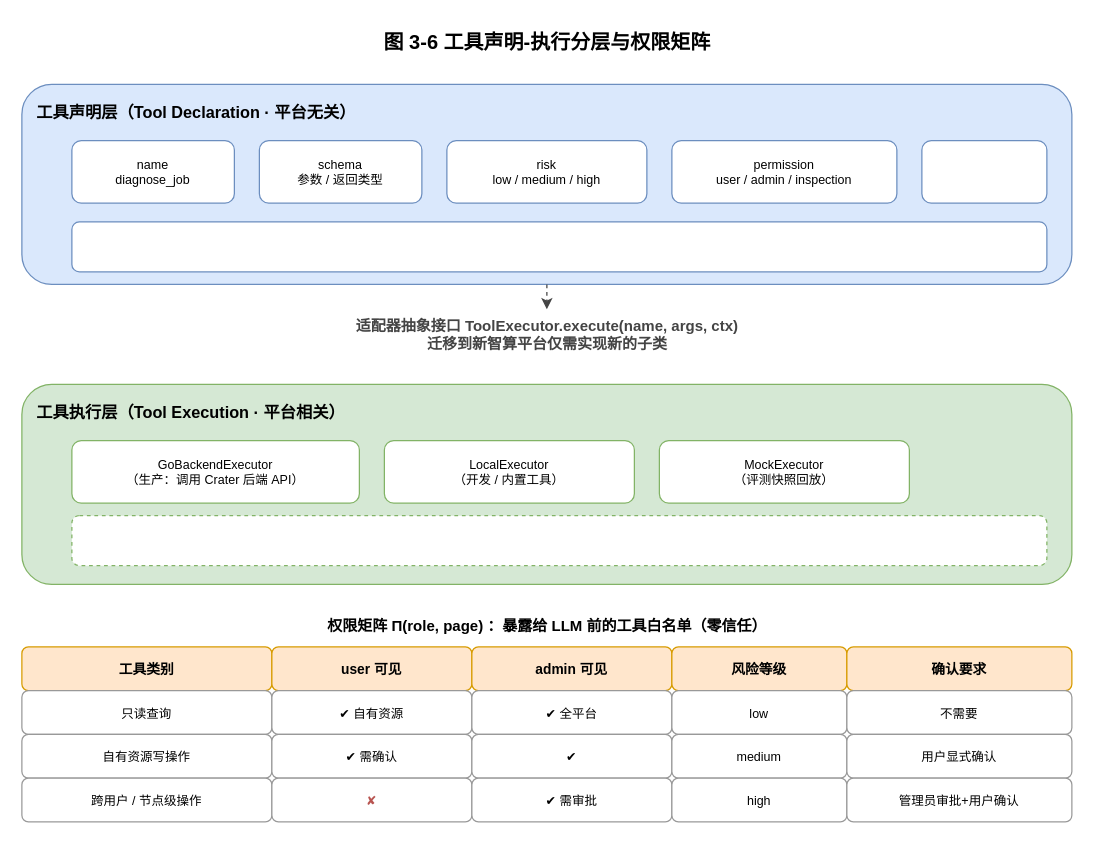
This 1094x844 diagram has some shape labels left out. The centre of each missing label's shape, as x and y in pixels:
"confirm" belongs at point (984, 171).
"prompt_hint：暴露给 LLM 的人类可读说明 + 风险等级 + 用法示例" belongs at point (559, 246).
"未来：新智算平台 Executor" belongs at point (559, 540).
